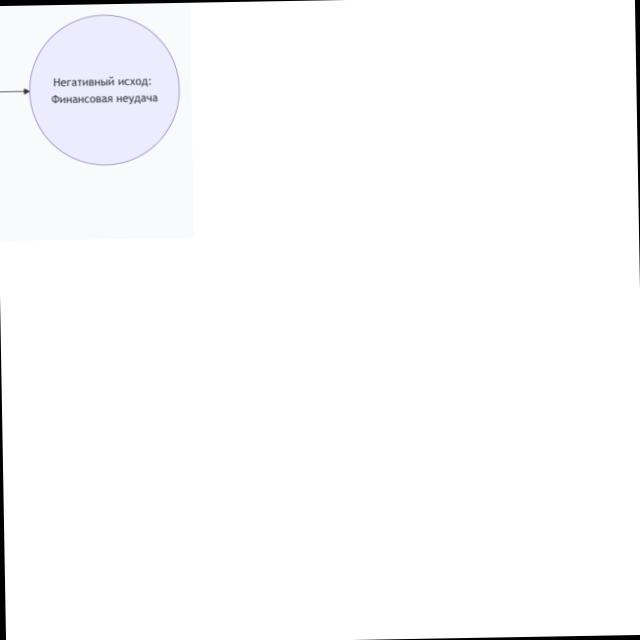circle: (0, 0, 210, 196)
